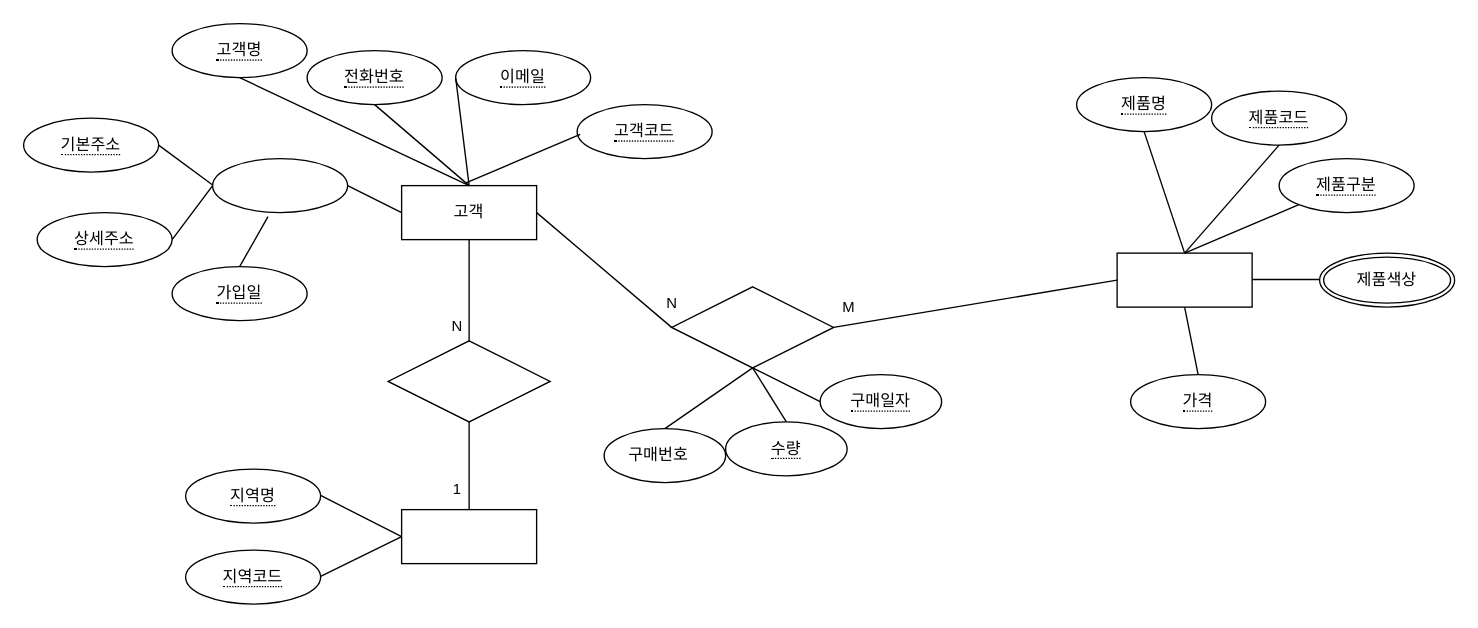
Some shapes in this 1478 by 628 pixel diagram are drawn without their labels. The box of each missing label's shape, as (x1, y1, x2, y2) in pixels:
Relationship: (387, 340, 550, 422)
구매: (670, 286, 834, 368)
제품: (1116, 252, 1252, 307)
주소: (211, 157, 348, 213)
지역: (400, 508, 537, 564)
